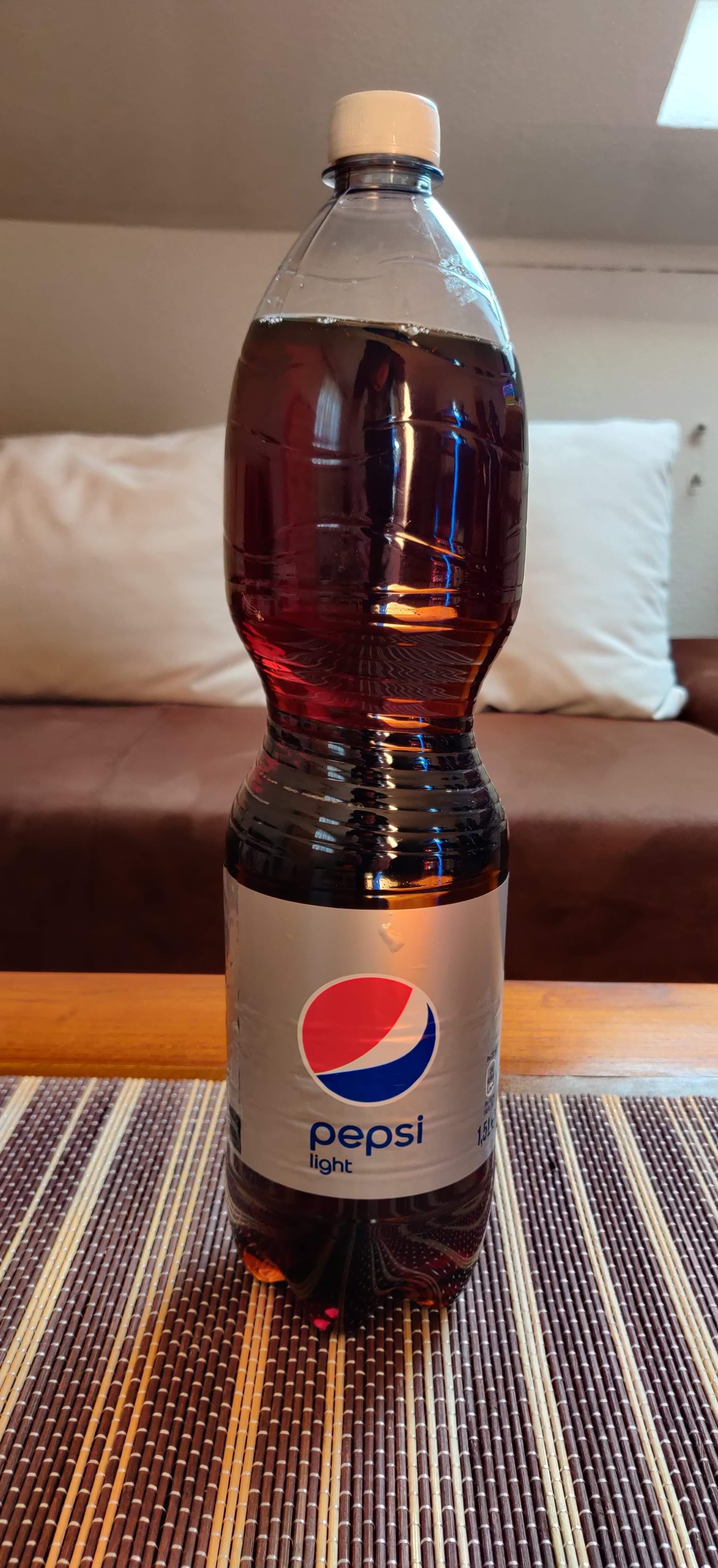bottle-plastic: (214, 84, 537, 1324)
